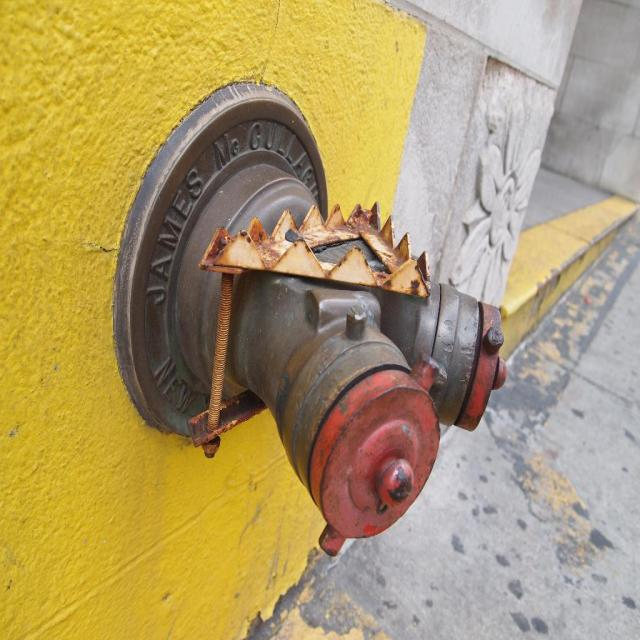fire_hydrant: (112, 83, 508, 557)
